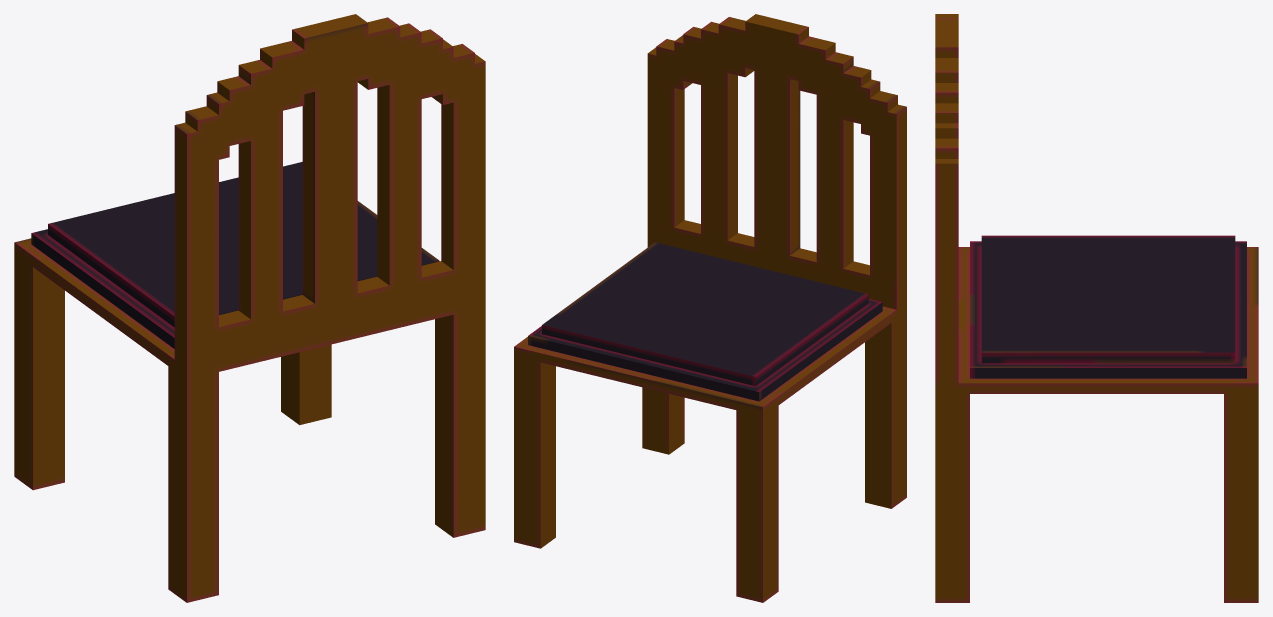
Rendered from Chair_4.obj.
3 views of the same model, side by side, from view 1: azimuth 30°, elevation 25°; view 2: azimuth 150°, elevation 25°; view 3: azimuth 270°, elevation 25° (orthographic). The views are drawn at different scales.
Parts seen in each view (by area): view 1: Chair_4; view 2: Chair_4; view 3: Chair_4.
Part boxes in pixels (box(x1,y1,x2,y2)): Chair_4: box(14, 14, 485, 602); Chair_4: box(514, 14, 906, 602); Chair_4: box(935, 14, 1258, 602).
Bounding box in the file's own units: 2.8 × 4.8 × 2.8.
Materials: 1 (1 with a texture image).
